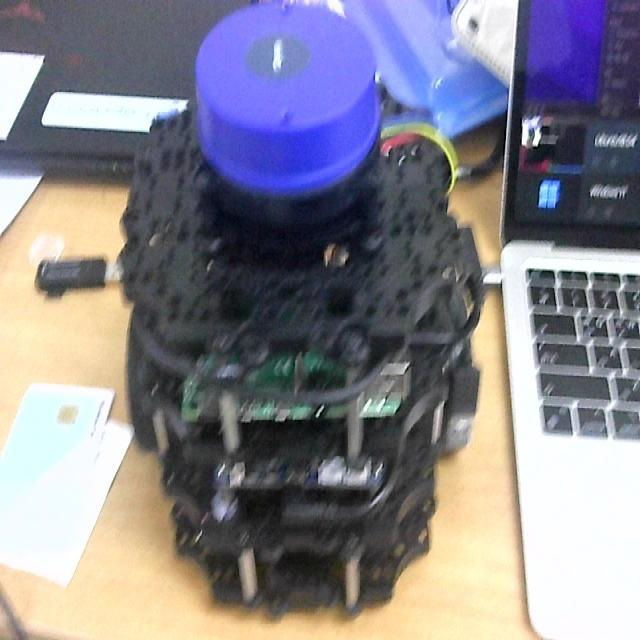turtle: (114, 0, 487, 625)
